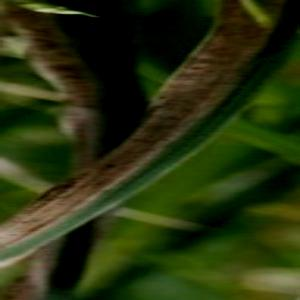2 BacterialBlight: (164, 17, 279, 148)
